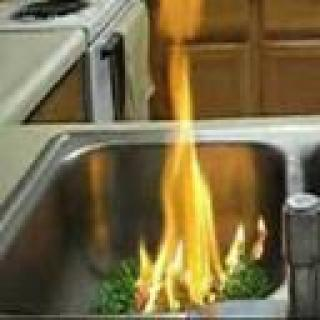fire: (135, 0, 224, 317), (222, 209, 272, 272)
